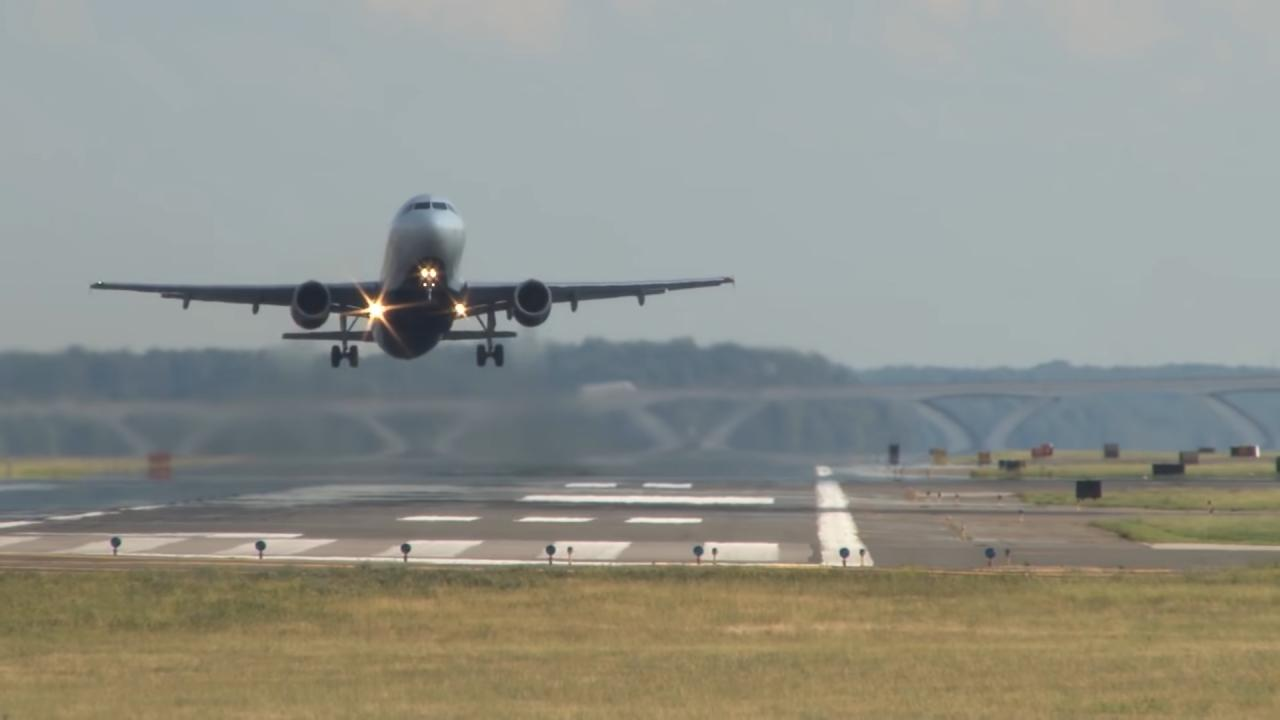Airplane: (74, 176, 749, 381)
